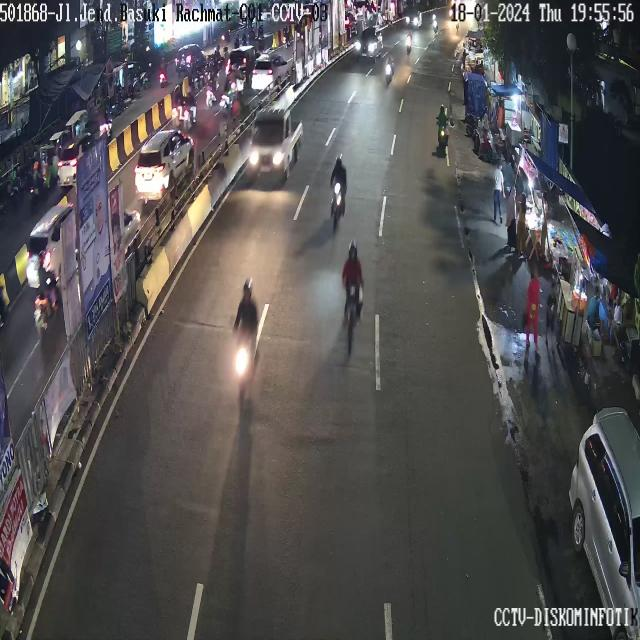Terpal: (463, 74, 490, 124), (492, 82, 528, 100)
